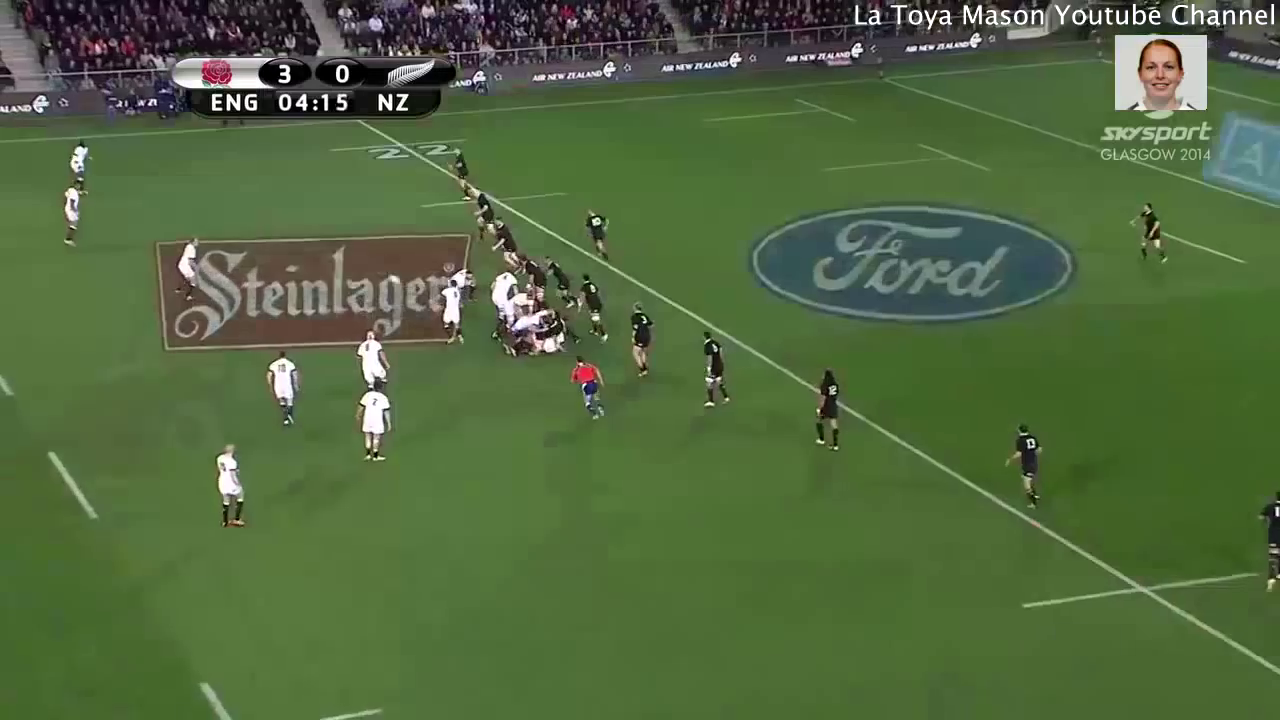corner_flag: (1085, 31, 1109, 67), (876, 46, 887, 84)
player: (805, 358, 851, 460), (204, 438, 253, 528), (1005, 421, 1048, 518), (351, 329, 399, 409), (690, 328, 733, 412), (354, 379, 395, 466), (265, 346, 304, 428), (1254, 482, 1280, 603), (563, 358, 609, 426), (623, 296, 657, 384), (1129, 199, 1168, 270), (574, 208, 617, 270), (478, 264, 519, 329), (581, 274, 613, 349), (437, 273, 469, 345), (172, 238, 205, 306), (61, 136, 93, 203), (54, 179, 84, 249), (539, 251, 576, 307), (465, 191, 501, 243), (490, 220, 519, 273), (449, 144, 474, 204)
ruck: (481, 290, 577, 356)
